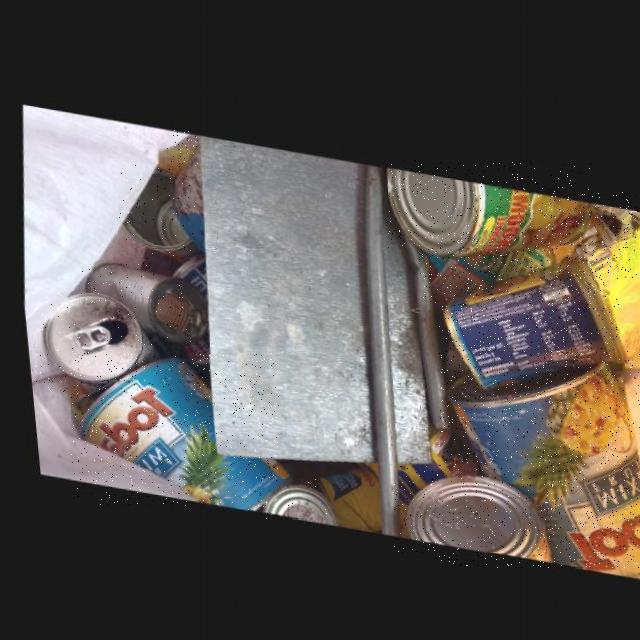metal: (439, 352, 640, 568), (72, 354, 279, 506), (439, 247, 619, 381), (388, 160, 592, 248), (395, 467, 541, 553), (35, 292, 140, 393), (76, 261, 195, 345), (419, 237, 549, 303), (118, 164, 198, 259), (567, 192, 637, 282), (168, 130, 198, 248), (248, 479, 327, 519)
